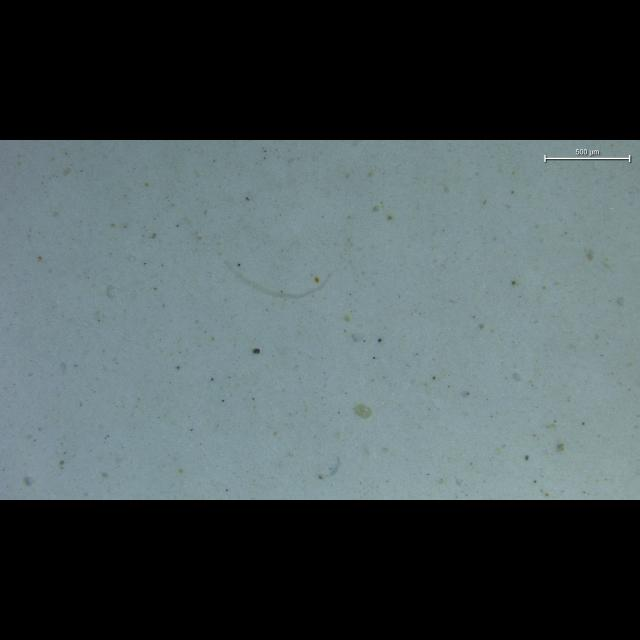Fibre: (224, 261, 328, 298), (318, 457, 340, 479)
Fragment: (355, 404, 372, 419)
